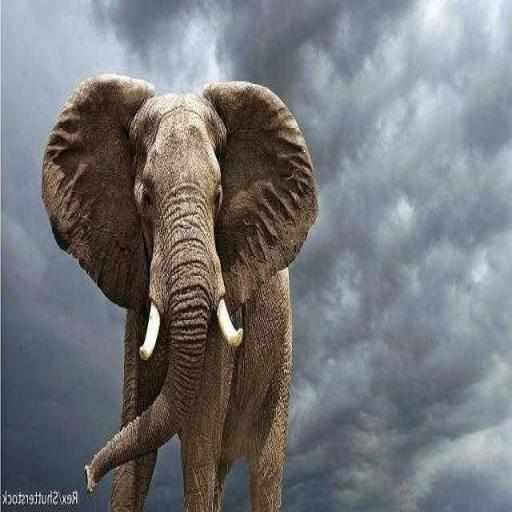Elephant: (41, 71, 319, 511)
